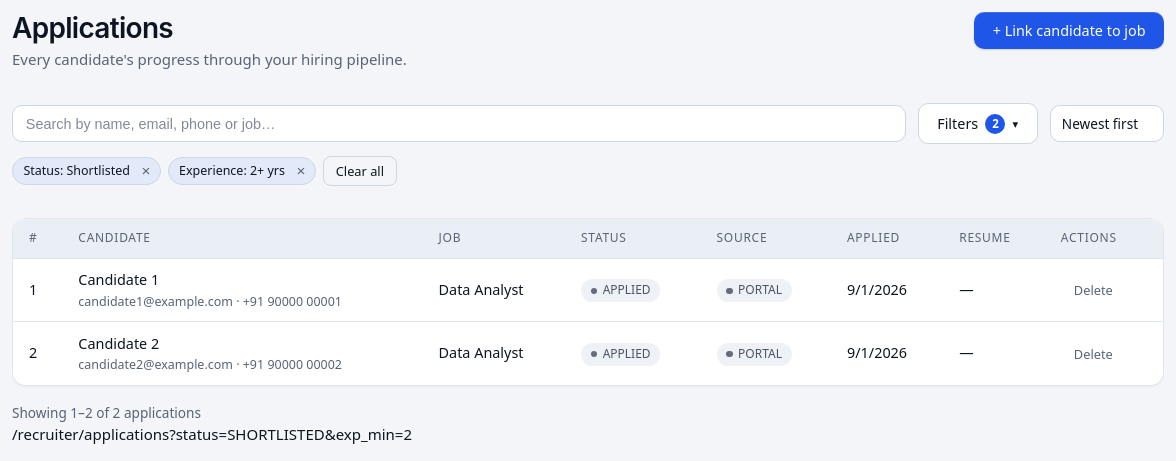
Test: ApplicationsPage — server-side search and filters › removes a single filter from its chip and keeps the rest
The width and height of the screenshot is (1176, 461).
Check: the text "Candidate 1" is shown, box [78,270,159,289]
Click the button named "Remove filter Status: Shortlisted". click: (146, 171)
box: [136,161,156,181]
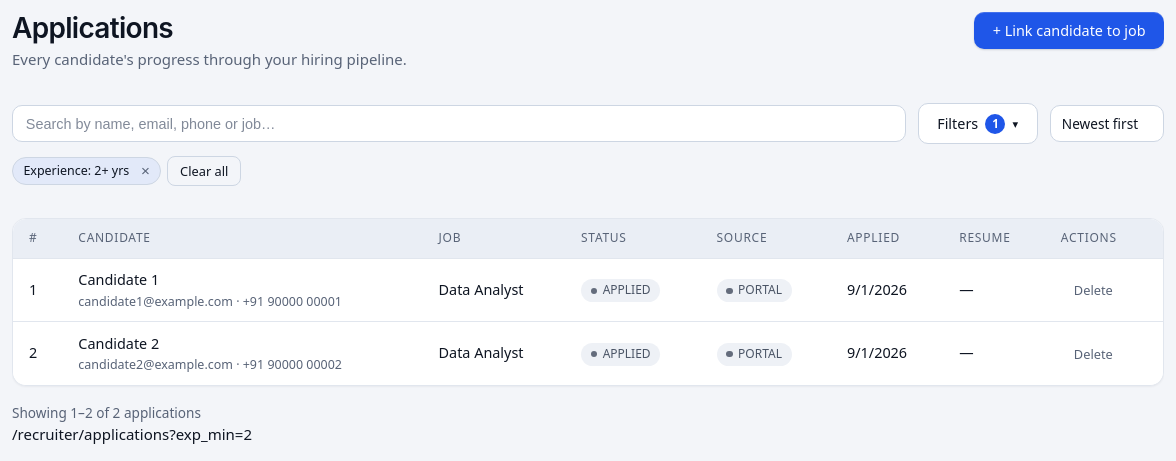
Check: the text "Status: Shortlisted" is gone
Check: the text with test id "location" reads "/recruiter/applications?exp_min=2", box [12,424,252,444]
